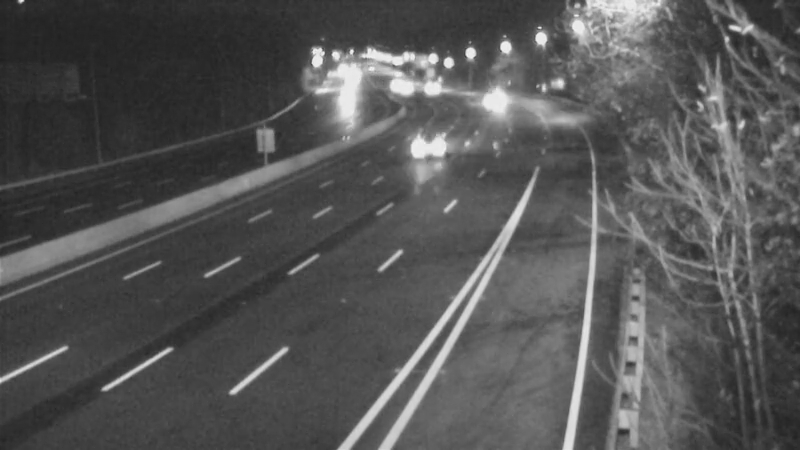vehicle: (370, 60, 420, 110), (407, 63, 457, 113), (380, 63, 430, 113), (469, 74, 519, 124), (407, 118, 457, 168), (320, 82, 370, 132)
